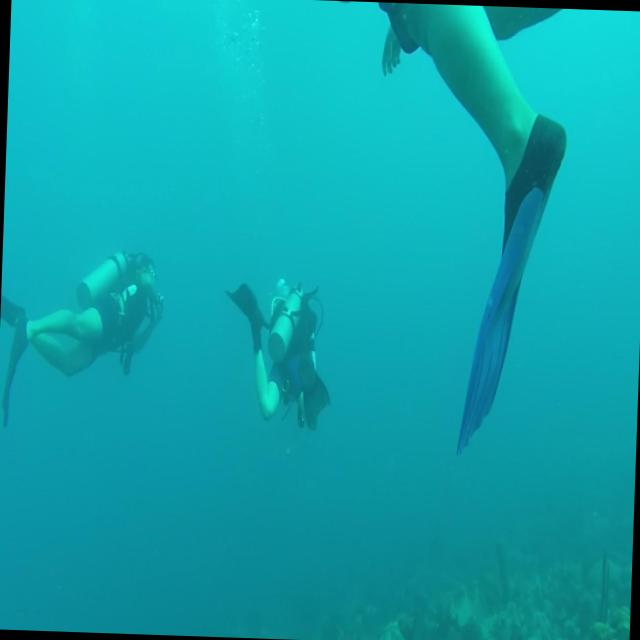human: (286, 0, 640, 461), (0, 243, 166, 432), (220, 274, 335, 431)
